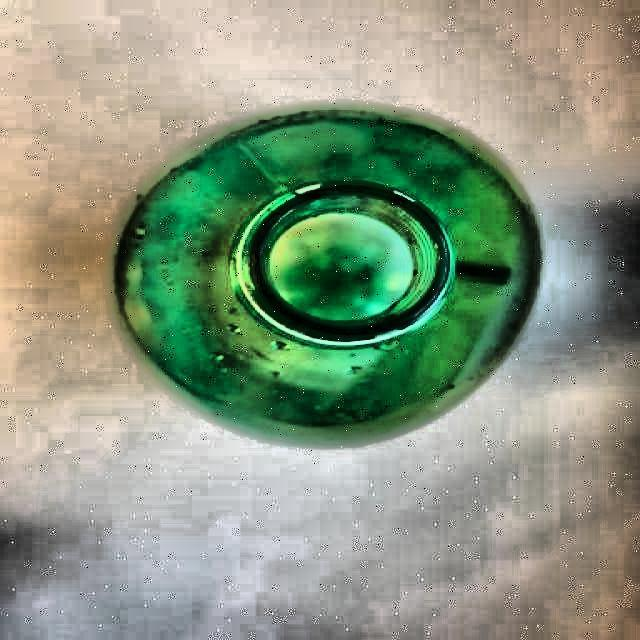plastic: (115, 105, 540, 443)
